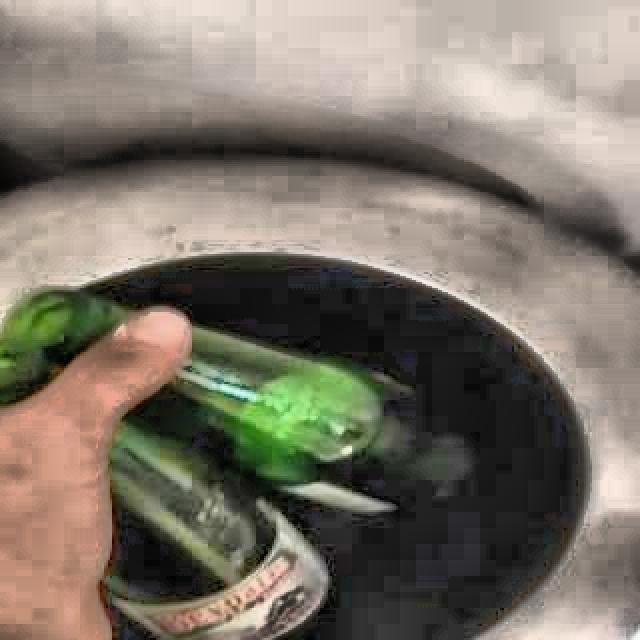glass: (101, 327, 472, 640), (0, 290, 128, 415)
